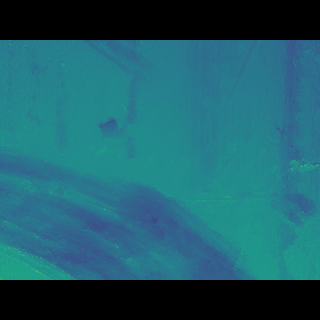Loch: (0, 136, 278, 250), (74, 69, 179, 113), (221, 69, 264, 125)
